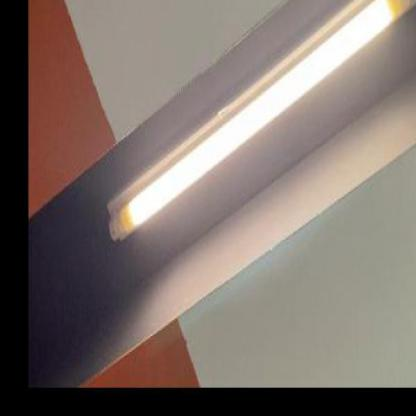light_on: (85, 0, 415, 272)
